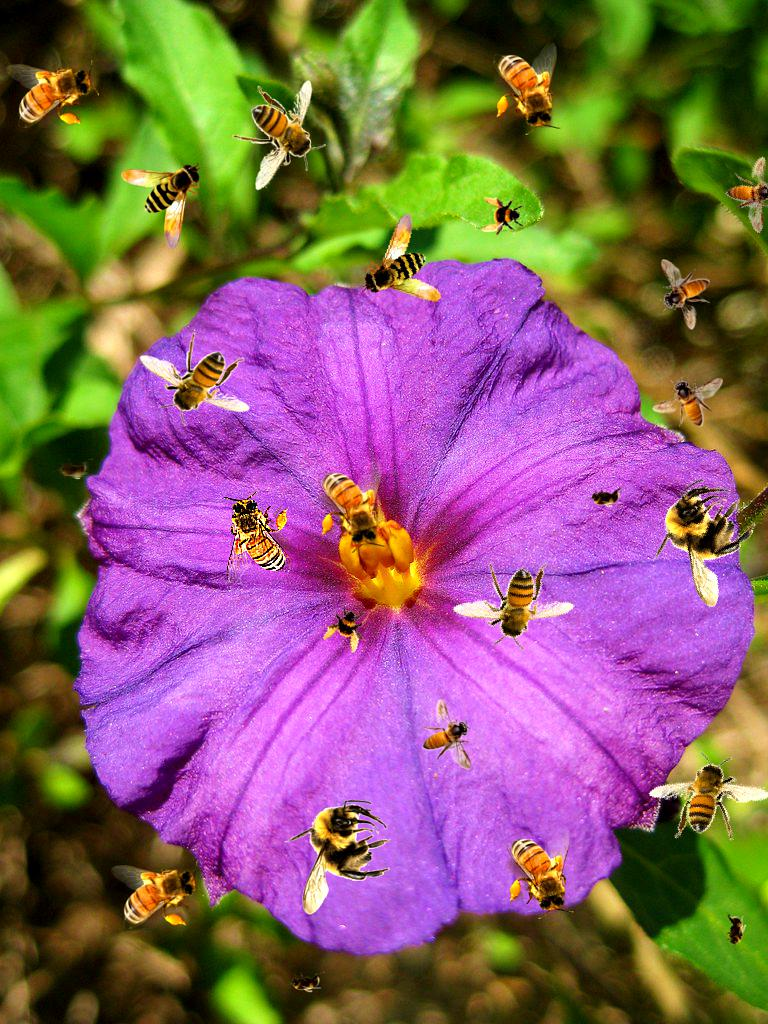Bee: (628, 465, 768, 622), (440, 536, 583, 672), (641, 731, 768, 865), (284, 800, 391, 915), (358, 205, 458, 311), (139, 332, 250, 426), (232, 80, 326, 191), (121, 162, 203, 250), (506, 826, 574, 919), (6, 60, 99, 128), (318, 460, 386, 553), (111, 861, 204, 929), (493, 42, 561, 135), (223, 491, 291, 584), (715, 148, 768, 235), (660, 259, 710, 330), (652, 377, 723, 427), (422, 699, 472, 770), (319, 599, 377, 657), (481, 195, 525, 239), (721, 909, 749, 953), (285, 971, 325, 993), (585, 486, 625, 508), (53, 458, 93, 480)
